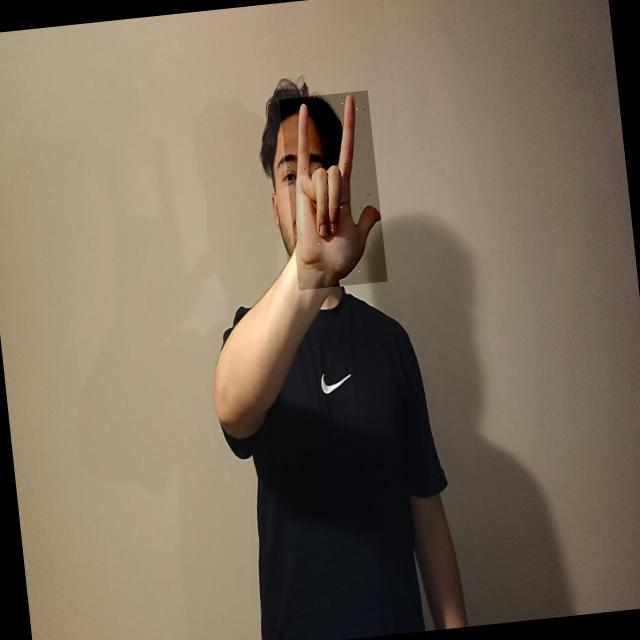iloveyou: (278, 90, 388, 290)
